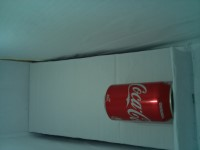kaleng: (104, 82, 174, 122)
